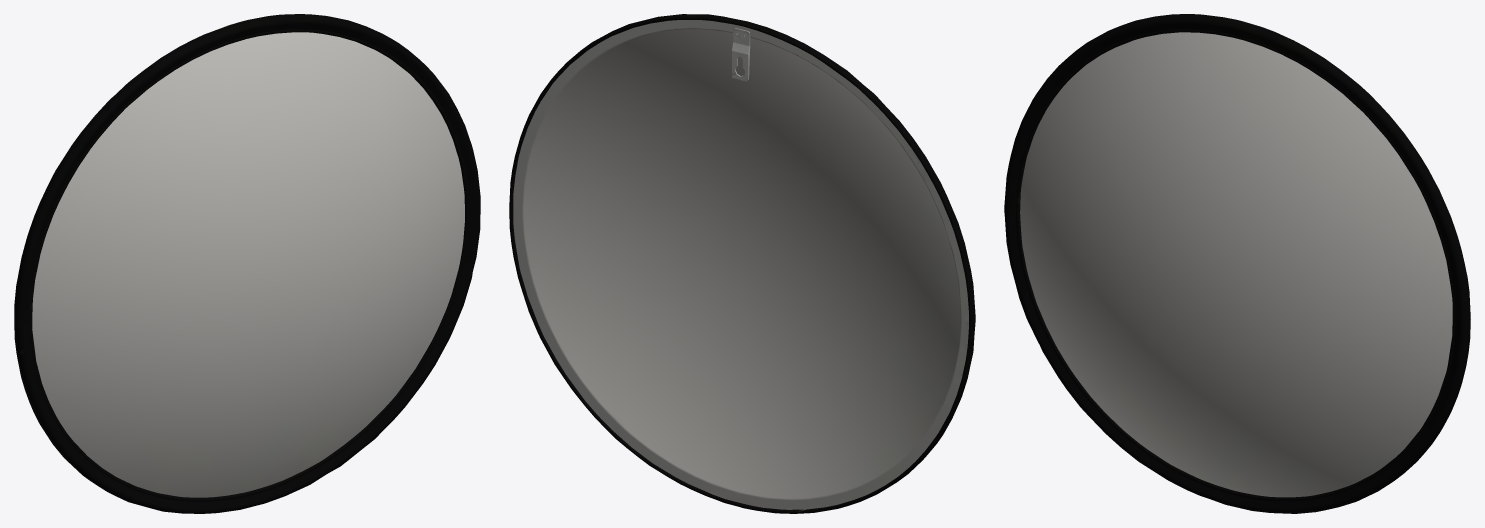
The model's file is 18 - SVARTBJÖRK - 裝飾用凸面鏡，黑色，41 公分 IKEA 線上購物.glb.
3 views of the same model, side by side, from view 1: azimuth 30°, elevation 25°; view 2: azimuth 150°, elevation 25°; view 3: azimuth 330°, elevation 25° (orthographic).
Parts seen in each view (by area): view 1: 80517122-SVARTBJÃƒÆ’Ã¢â‚¬â€œRK001; view 2: 80517122-SVARTBJÃƒÆ’Ã¢â‚¬â€œRK001; view 3: 80517122-SVARTBJÃƒÆ’Ã¢â‚¬â€œRK001.
Boxes of the visible parts, bbox=[...] form: 80517122-SVARTBJÃƒÆ’Ã¢â‚¬â€œRK001: bbox=[14, 14, 480, 513]; 80517122-SVARTBJÃƒÆ’Ã¢â‚¬â€œRK001: bbox=[509, 14, 975, 513]; 80517122-SVARTBJÃƒÆ’Ã¢â‚¬â€œRK001: bbox=[1004, 14, 1470, 513].
Size of the model in its own units: 0.4132 by 0.4133 by 0.0523.
Materials: 1 (1 with a texture image).
